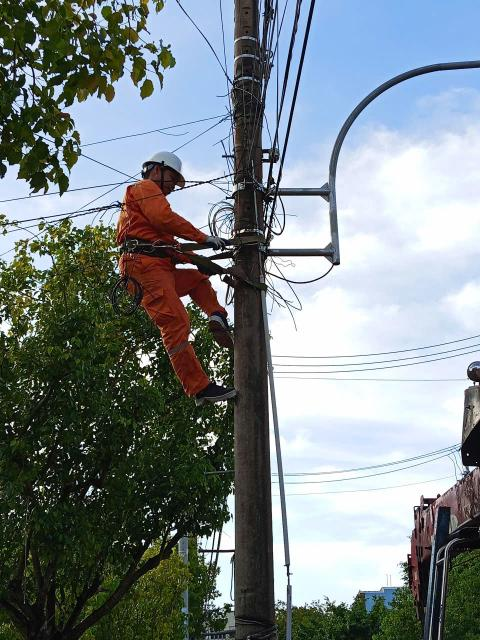gloves: (195, 227, 226, 250)
harness: (112, 234, 188, 266)
helmet: (141, 142, 203, 193)
shoes: (194, 371, 241, 409), (207, 305, 244, 353)
